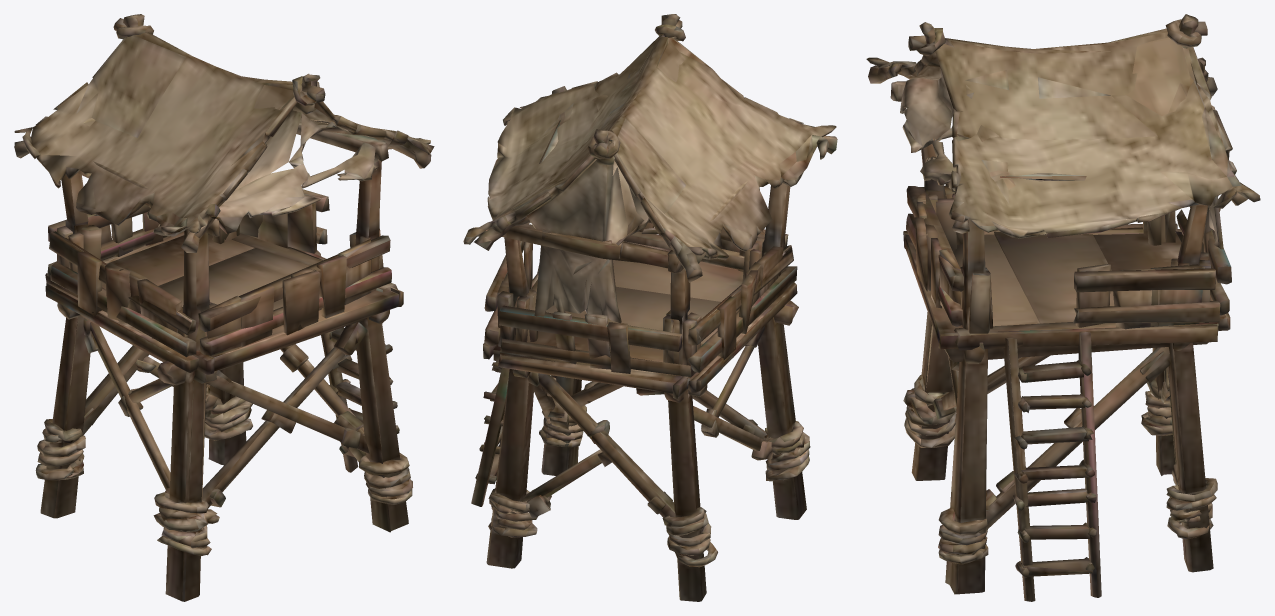
File: shelter_t1_watchtower.glb
3 views of the same model, side by side, from view 1: azimuth 30°, elevation 25°; view 2: azimuth 150°, elevation 25°; view 3: azimuth 270°, elevation 25° (orthographic). The views are drawn at different scales.
Size of the model in its own units: 0.2207 by 0.3311 by 0.229.
Materials: 1 (1 with a texture image).
